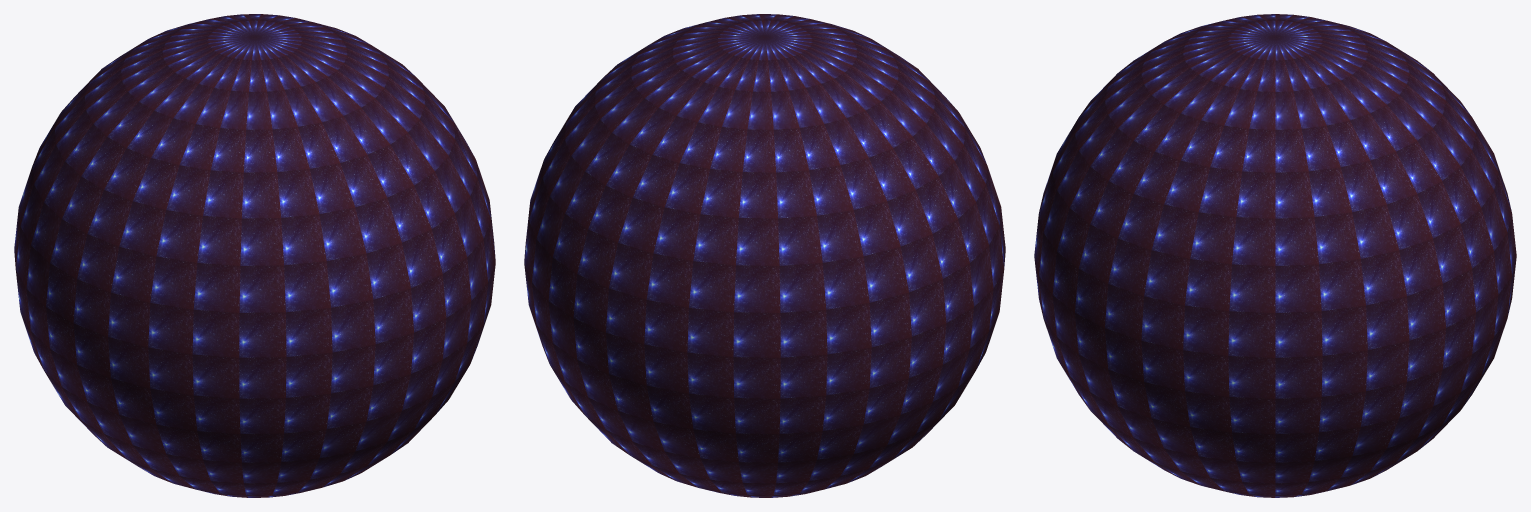
File: Ball.fbx
3 renders of one model, left to right at view 1: azimuth 30°, elevation 25°; view 2: azimuth 150°, elevation 25°; view 3: azimuth 270°, elevation 25°, orthographic.
Visible parts, largest first — view 1: Sphere; view 2: Sphere; view 3: Sphere.
Part boxes in pixels (x1,y1,x2,y2): Sphere: [14, 14, 495, 497]; Sphere: [524, 14, 1005, 497]; Sphere: [1034, 14, 1516, 497].
Bounding box in the file's own units: 1.98 × 1.98 × 1.98.
Materials: 1 (1 with a texture image).
